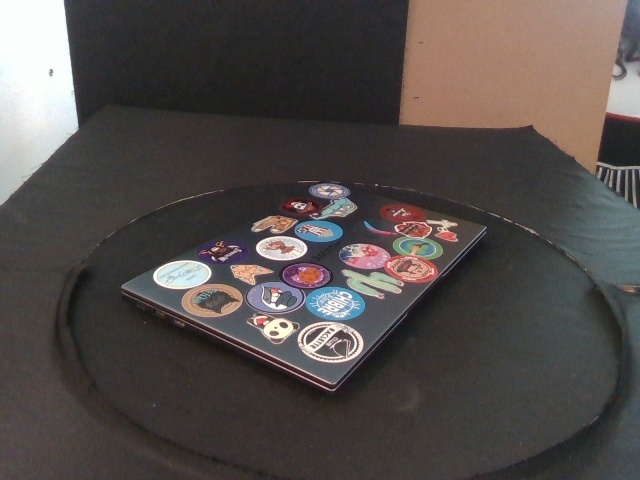laptop: (119, 181, 487, 394)
